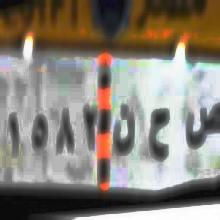1: (5, 111, 23, 160)
2: (82, 100, 98, 154)
5: (30, 111, 50, 164)
7aa: (144, 104, 176, 165)
8: (55, 102, 76, 160)
noon: (112, 98, 138, 164)
saad: (185, 94, 220, 152)
